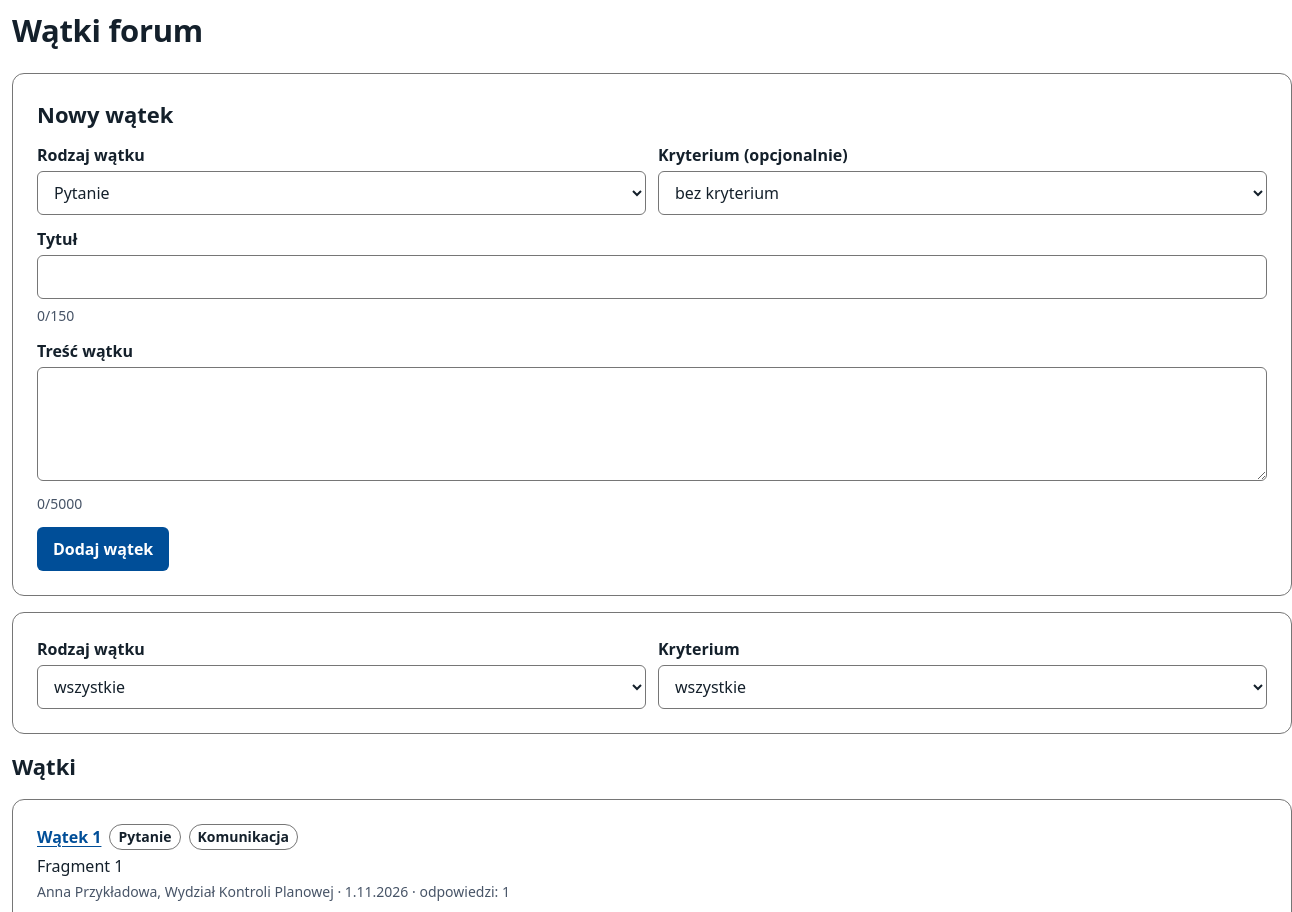
forum list › narrows the list by type and by criterion
This screenshot has width=1292, height=912.
Select "Oferta" in the 2nd dropdown labelled "Rodzaj wątku" at (342, 687), box [37, 665, 646, 709]
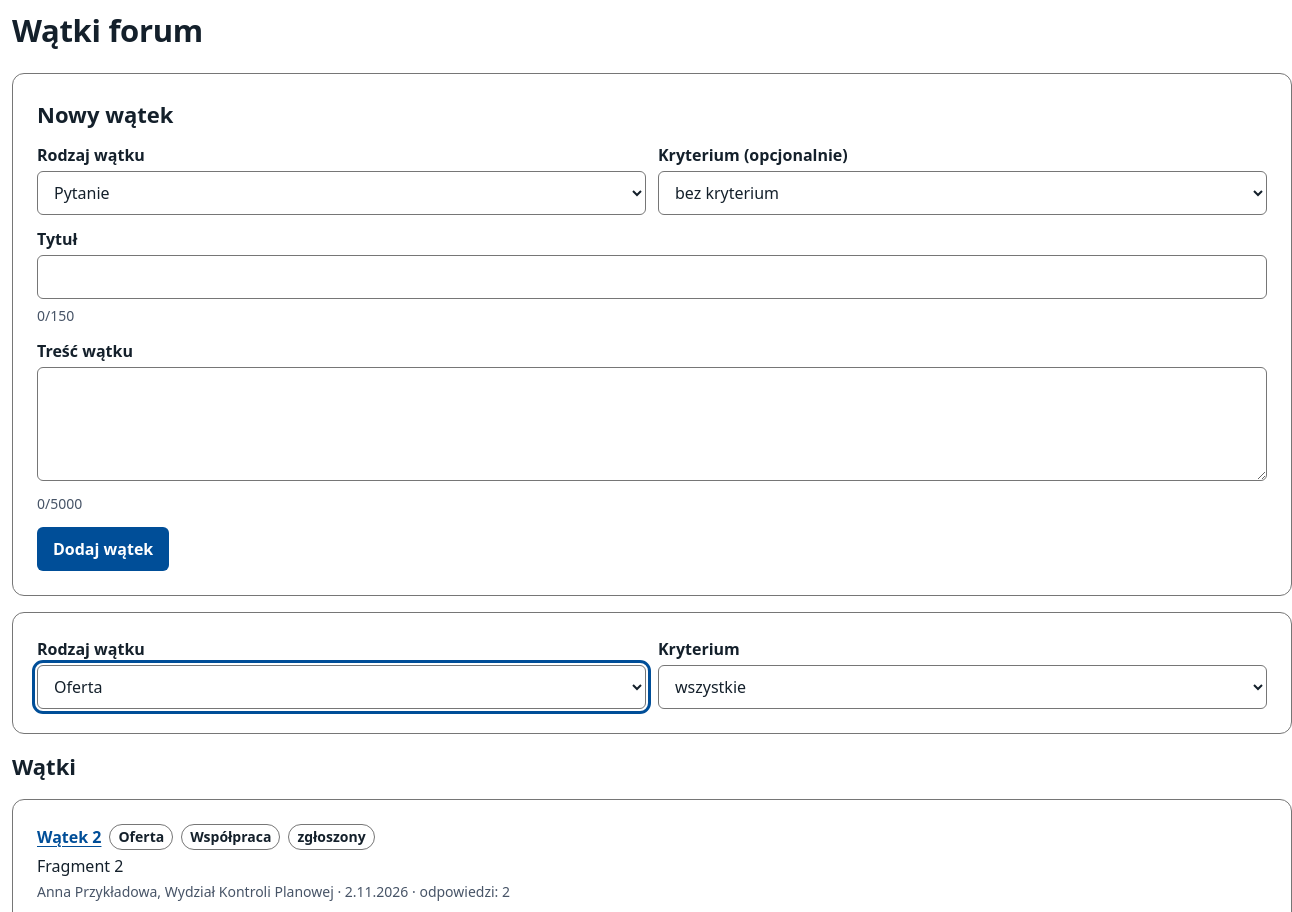
expect the number of links named "Otwórz wątek" is 1: met, box [37, 825, 102, 849]
Select "wszystkie" in the 2nd dropdown labelled "Rodzaj wątku" at (342, 687), box [37, 665, 646, 709]
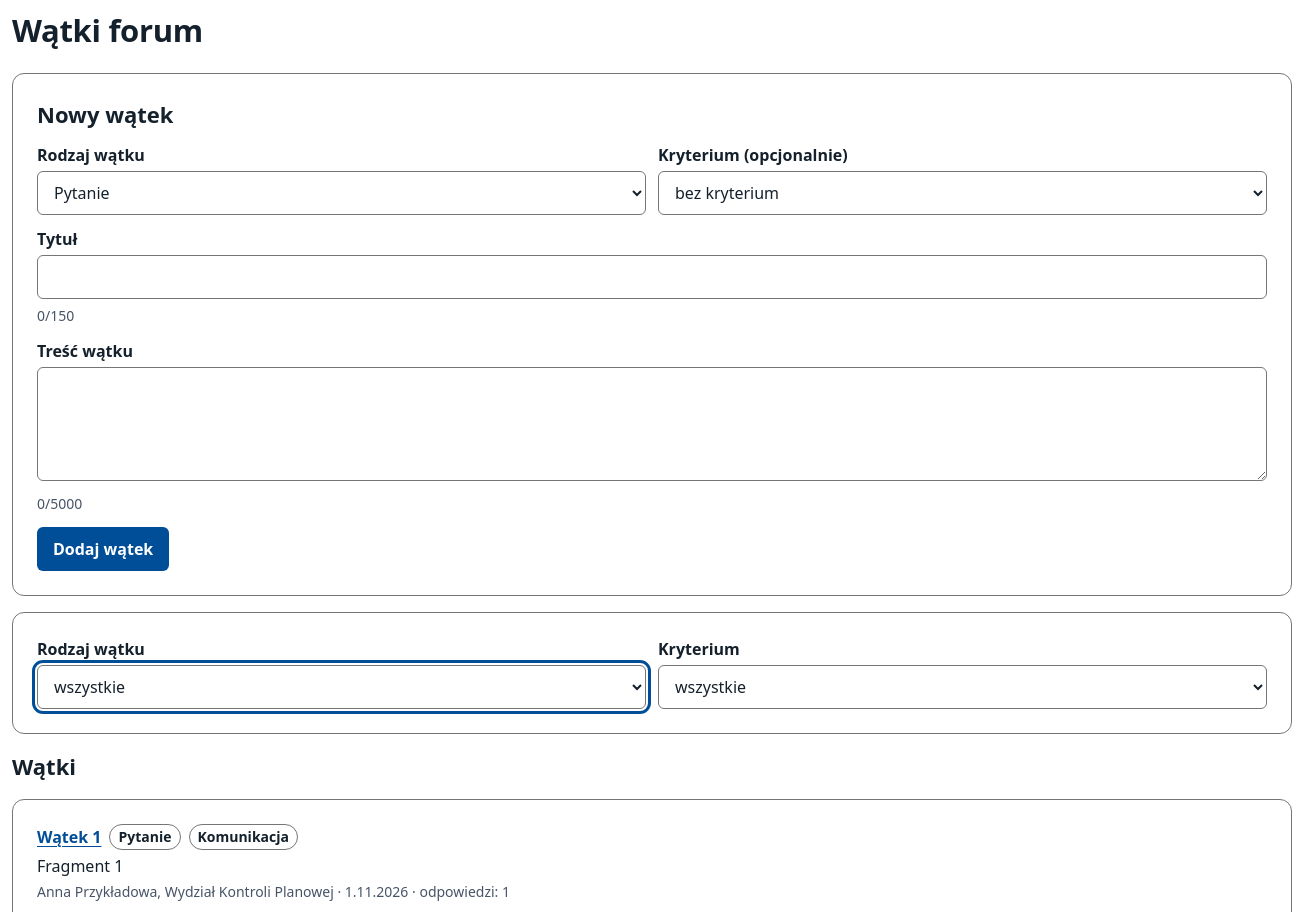
Select "Współpraca" in the dropdown labelled "Kryterium" at (962, 687), box [658, 665, 1267, 709]
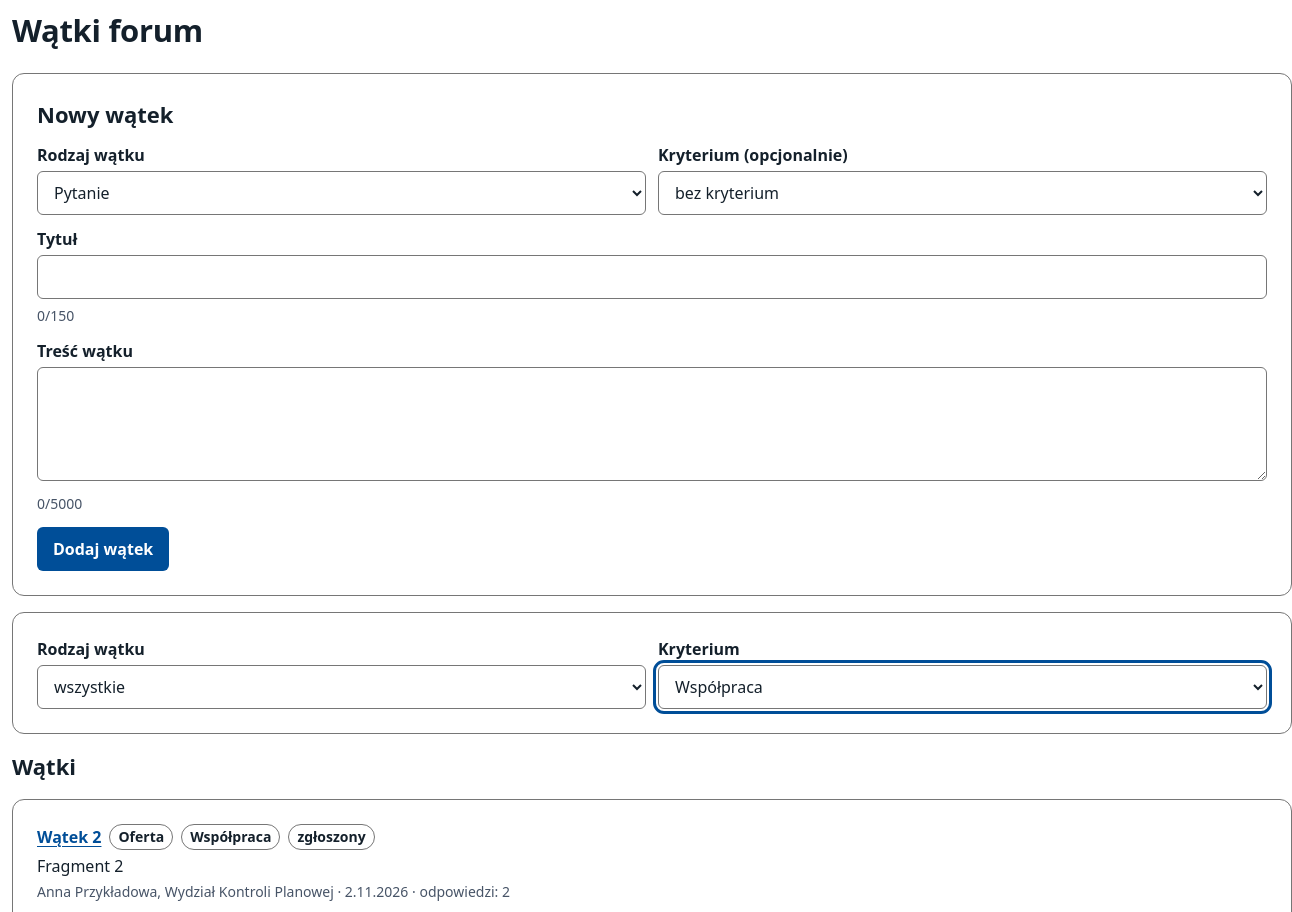
expect the number of links named "Otwórz wątek" is 2: met
